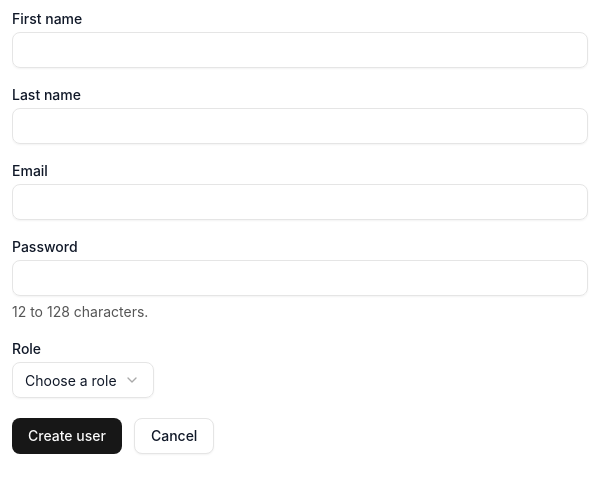
Test: UserForm › shows field errors with aria wiring, keeps values and empties the password
Type "Ada" into the field labelled "First name" at (300, 50), box [12, 32, 588, 68]
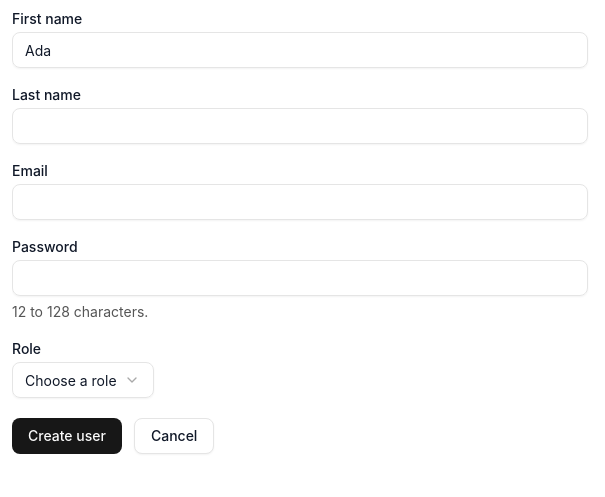
Type "secret-password-1" into the password field labelled "Password" at (300, 278), box [12, 260, 588, 296]
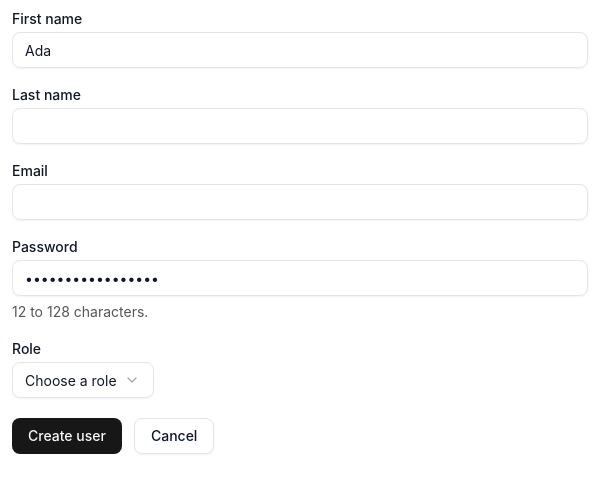
Submit the form
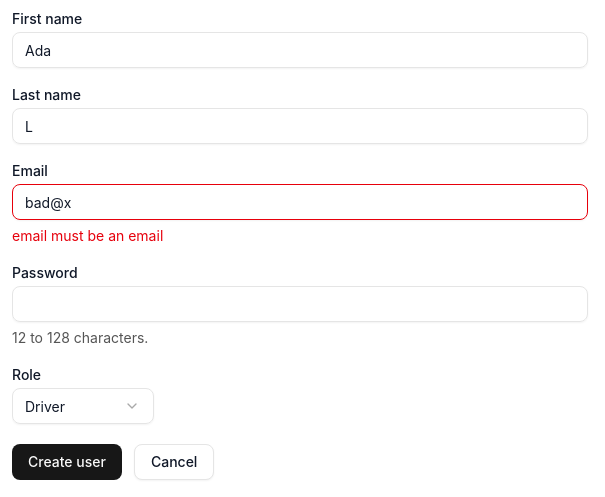
Expected: the field labelled "Email" holds "bad@x", [12, 184, 588, 220]
Expected: the dropdown labelled "Role" shows "Driver", [12, 388, 154, 424]
Expected: the password field labelled "Password" is empty, [12, 286, 588, 322]
